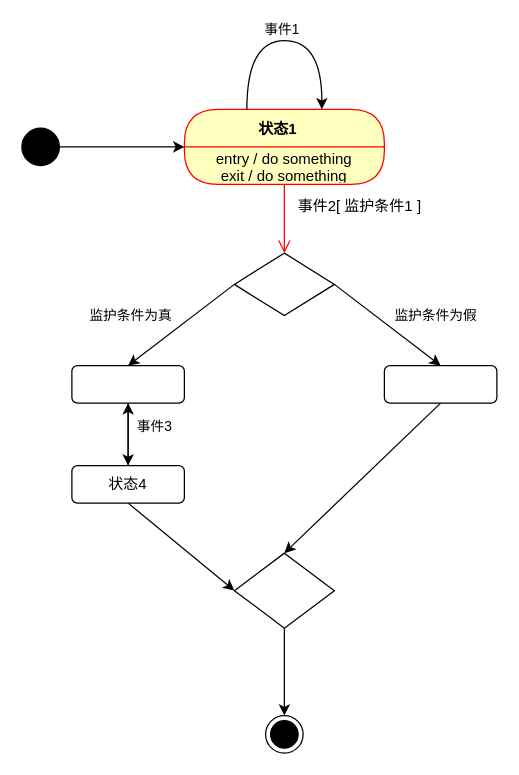
Some shapes in this 519 by 775 pixel diagram are drawn without their labels. Each missing label, with the centre of its shape:
状态2: (x=127, y=383)
状态3: (x=440, y=383)
